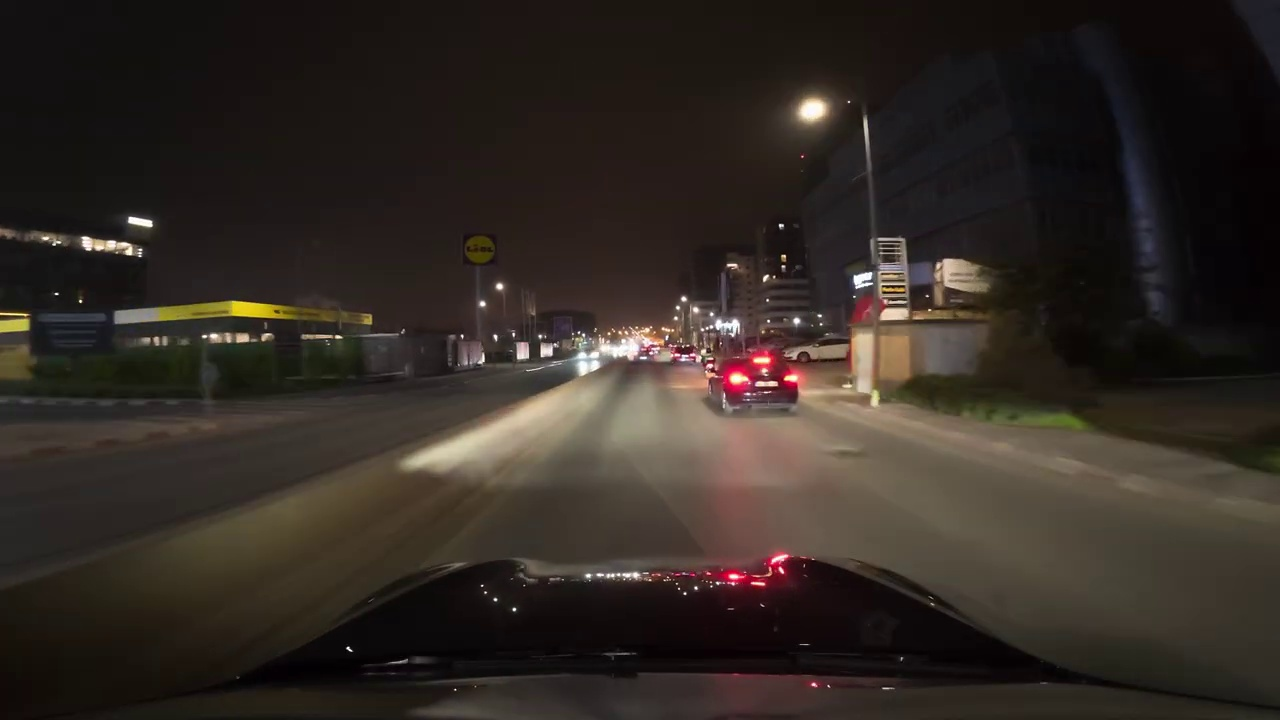acesa: (797, 96, 828, 124), (466, 235, 494, 265)
